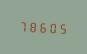eight: (28, 19, 37, 33)
five: (58, 20, 67, 35)
seven: (18, 18, 27, 33)
six: (38, 19, 47, 34)
zero: (48, 20, 57, 34)
